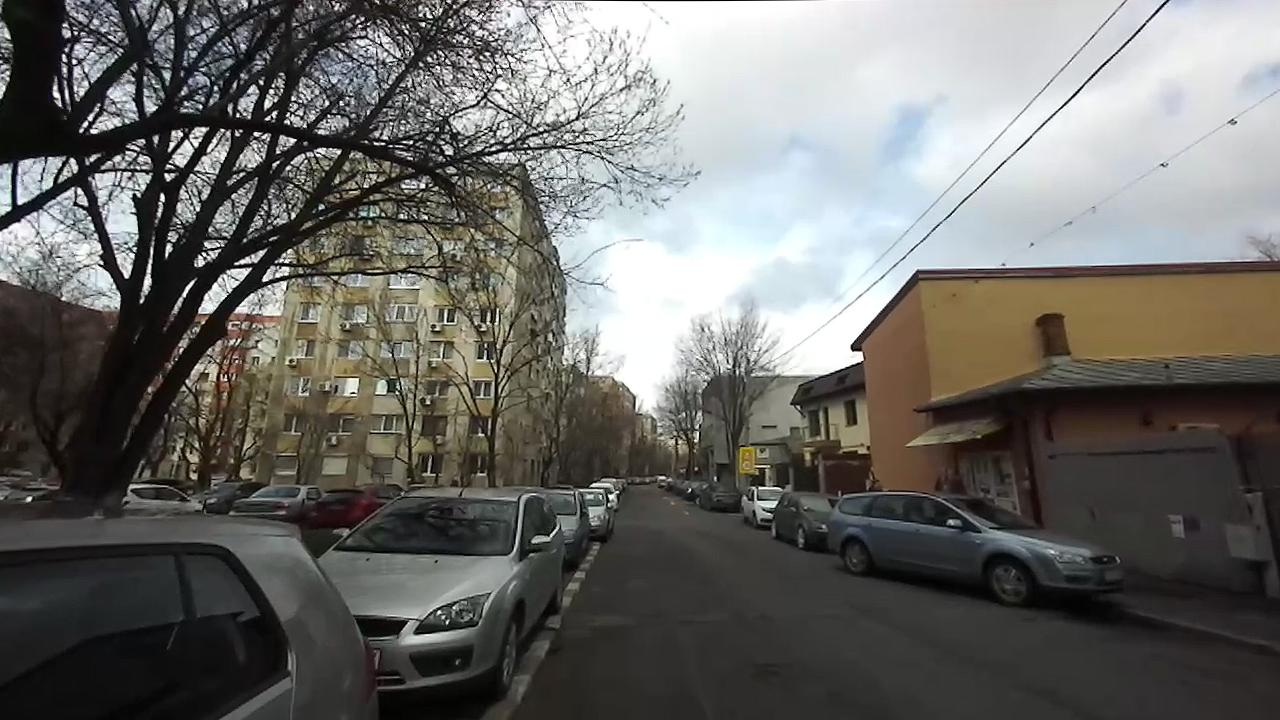pothole: (752, 659, 796, 684), (549, 641, 562, 656)
